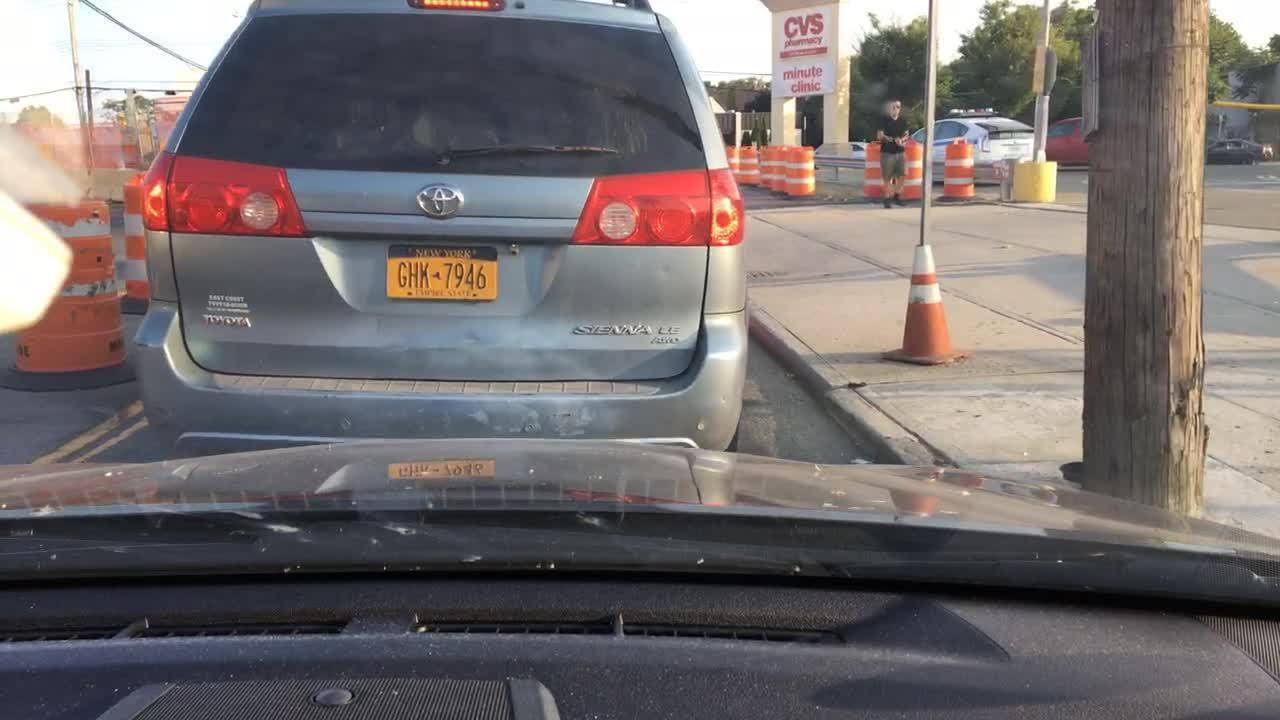Toyota: (398, 166, 485, 233)
